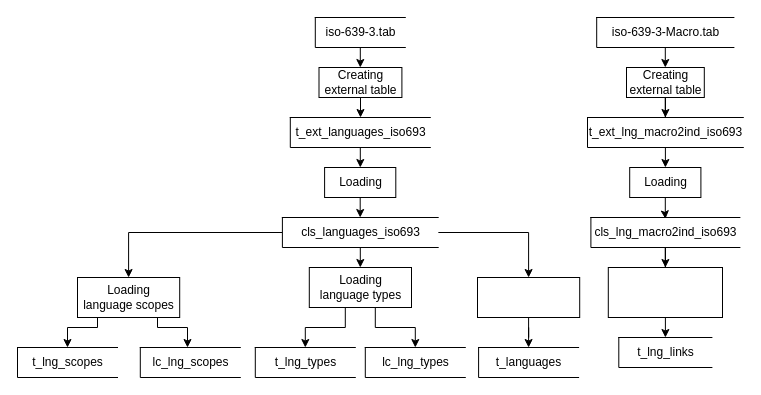
The diagram is 761 pixels wide and 395 high, and some of its shapes have lost their labels. The centre of each missing label's shape, as x and y in pixels:
Loading languages: the point at 528,297
Loading Macrolanguages links: the point at 664,292
